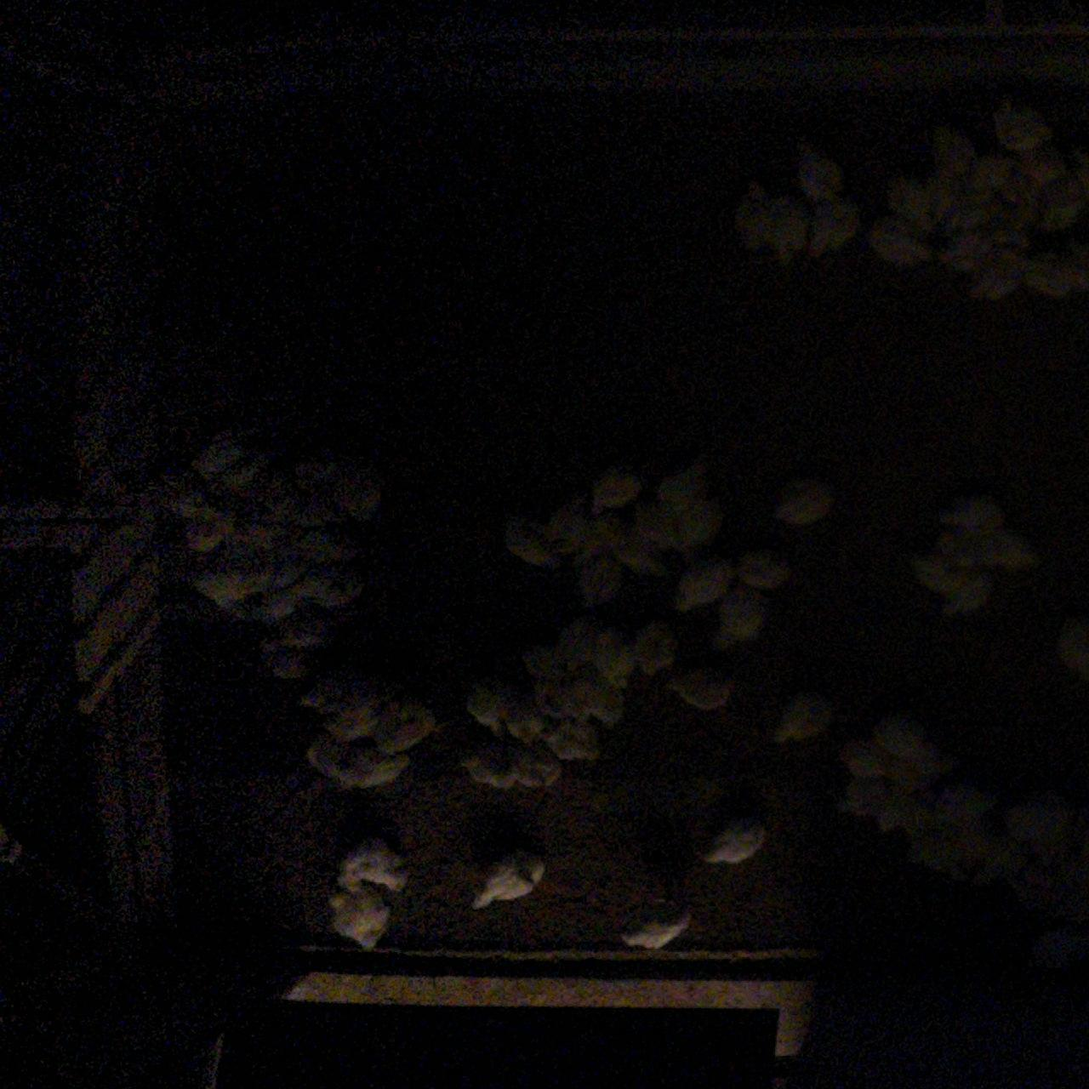chicken: (597, 513, 681, 583), (469, 845, 556, 911), (162, 489, 245, 555), (711, 578, 774, 662), (296, 666, 397, 718), (317, 685, 398, 749), (661, 496, 736, 564), (330, 838, 416, 897), (790, 131, 855, 207), (651, 455, 730, 517), (259, 606, 364, 652), (328, 883, 396, 954), (286, 557, 375, 611), (867, 703, 944, 764), (764, 473, 845, 530), (205, 448, 287, 503), (917, 781, 1005, 832), (861, 217, 938, 275), (932, 185, 1002, 247), (1011, 788, 1082, 849), (1006, 244, 1080, 302), (883, 169, 949, 234), (570, 669, 638, 732), (957, 248, 1028, 308), (557, 610, 617, 680), (884, 745, 965, 796), (990, 90, 1060, 149), (187, 419, 263, 473), (939, 818, 1012, 874), (670, 557, 738, 617), (767, 691, 835, 751), (585, 458, 655, 516), (450, 736, 520, 794), (492, 683, 557, 745), (924, 122, 983, 190), (374, 698, 443, 756), (543, 714, 612, 772), (333, 453, 387, 527), (764, 186, 812, 269), (666, 664, 741, 717), (566, 508, 629, 571), (931, 487, 1021, 531), (806, 194, 867, 258), (463, 673, 522, 739), (542, 490, 597, 560), (969, 527, 1044, 578), (337, 742, 415, 791), (591, 624, 646, 693), (697, 817, 772, 867), (501, 738, 569, 793), (1010, 857, 1078, 912), (619, 905, 698, 952), (233, 469, 312, 516), (502, 514, 566, 572), (1032, 172, 1089, 237), (574, 551, 632, 614), (873, 787, 938, 843), (939, 569, 1004, 625), (291, 457, 342, 528), (188, 564, 268, 608), (291, 524, 371, 567), (971, 832, 1030, 890), (935, 224, 1009, 270), (901, 545, 965, 598), (731, 179, 775, 256), (730, 544, 799, 593), (302, 730, 364, 784), (632, 615, 683, 678), (530, 670, 589, 723), (231, 584, 302, 628), (833, 737, 899, 784), (241, 519, 305, 567), (962, 148, 1022, 199), (997, 188, 1049, 246), (1029, 925, 1089, 975), (902, 835, 968, 880), (833, 776, 896, 822), (1015, 139, 1075, 187), (251, 487, 312, 534), (519, 640, 576, 690), (251, 549, 311, 593), (934, 518, 983, 570), (252, 646, 326, 680), (1055, 611, 1089, 681), (1057, 237, 1089, 302), (1068, 144, 1089, 207)
